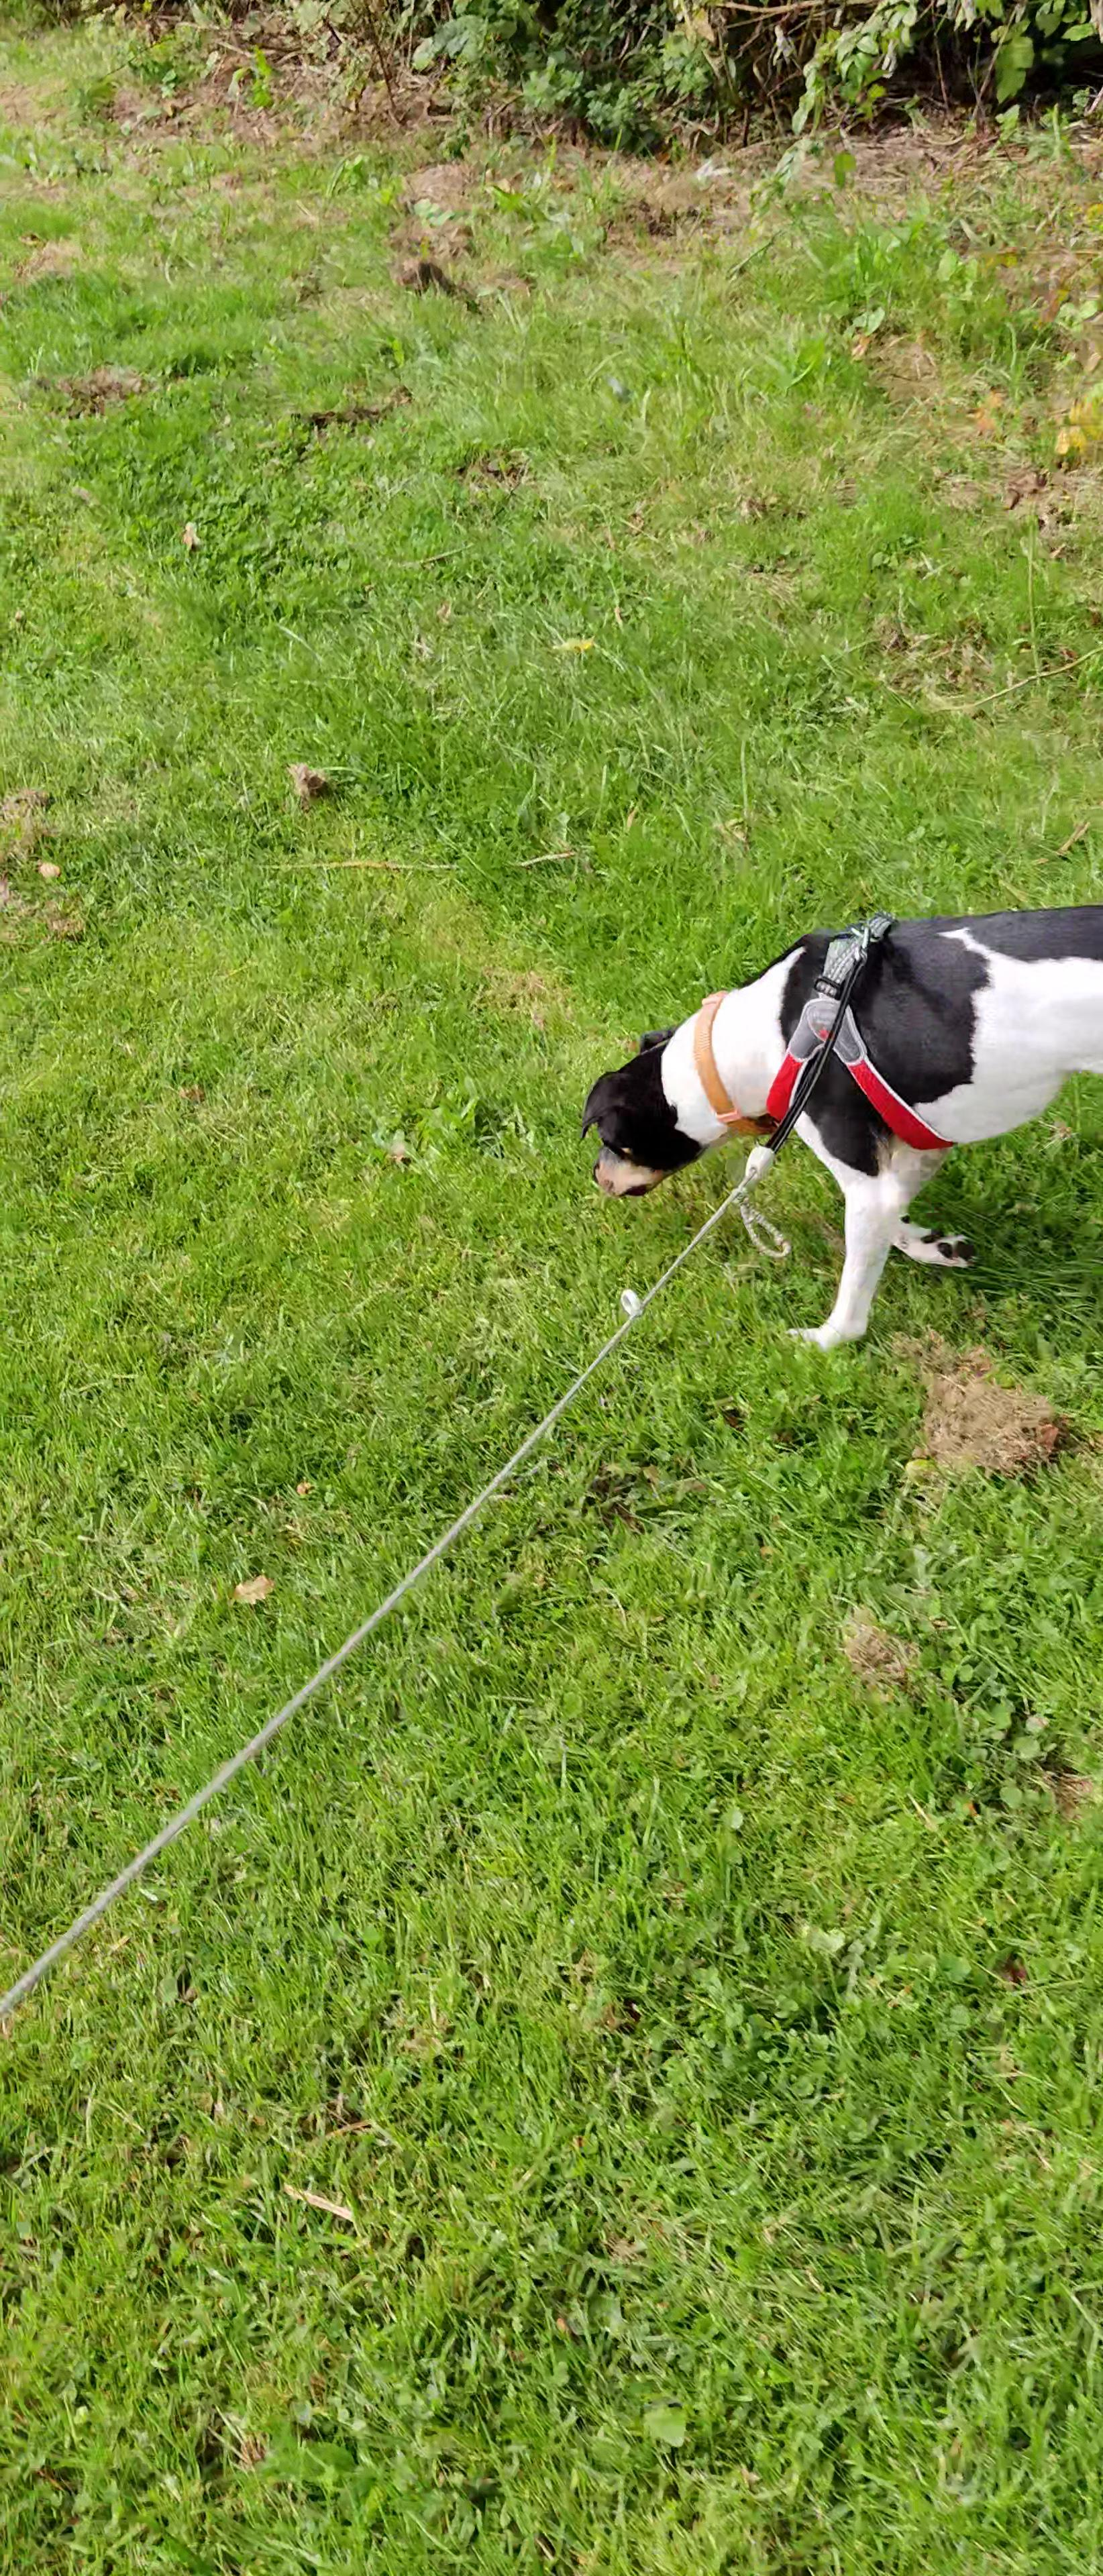Dog: (570, 872, 1103, 1375)
